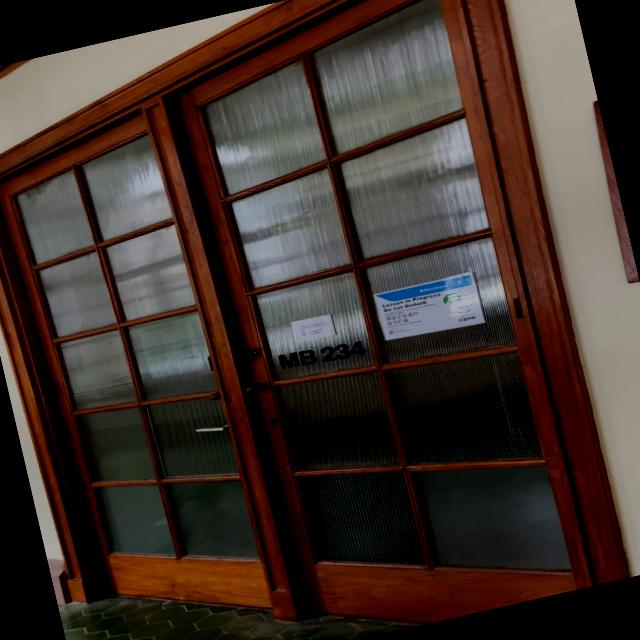room234Window: (272, 332, 372, 378)
